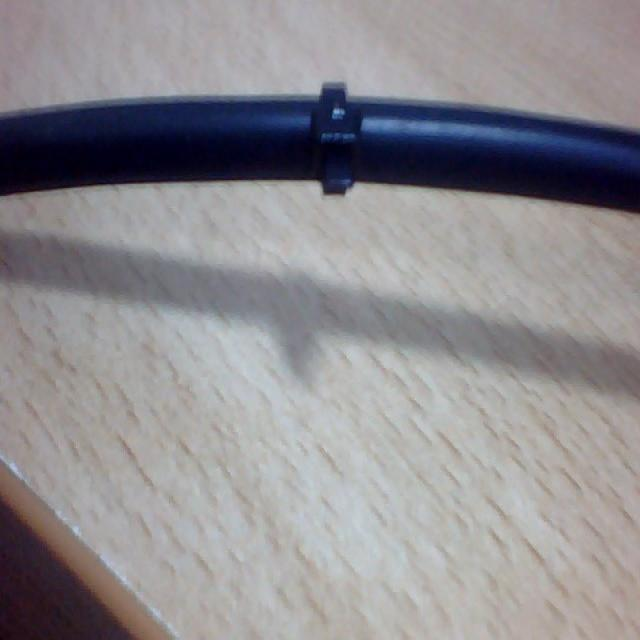cable-tie: (304, 80, 365, 197)
